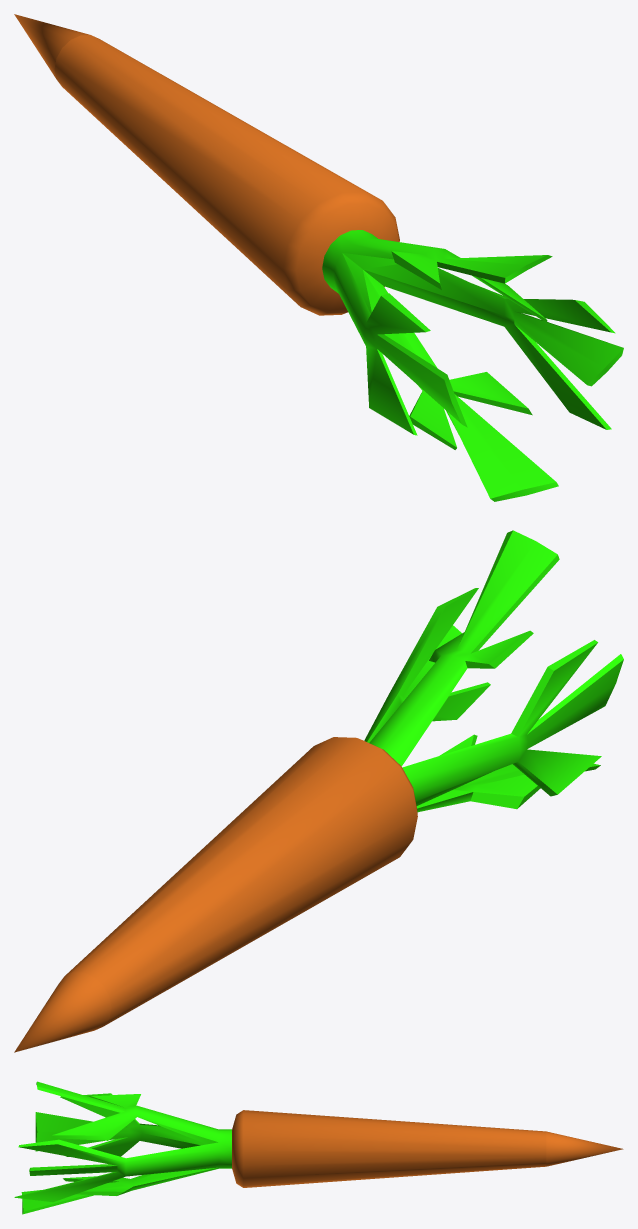
The model's file is carrot_basic.glb.
The picture shows the model from 3 angles, top to bottom: view 1: azimuth 30°, elevation 25°; view 2: azimuth 150°, elevation 25°; view 3: azimuth 270°, elevation 25°; orthographic projection. The views are drawn at different scales.
Parts seen in each view (by area): view 1: 0.036, 1.030; view 2: 0.036, 1.030; view 3: 0.036, 1.030.
Boxes of the visible parts, box(x1,y1,x2,y2) form: 0.036: box(14, 14, 399, 315); 1.030: box(322, 230, 623, 501); 0.036: box(14, 737, 417, 1052); 1.030: box(364, 530, 623, 812); 0.036: box(232, 1110, 623, 1187); 1.030: box(14, 1081, 231, 1214).
Bounding box in the file's own units: 0.0985 × 0.1161 × 0.4955.
